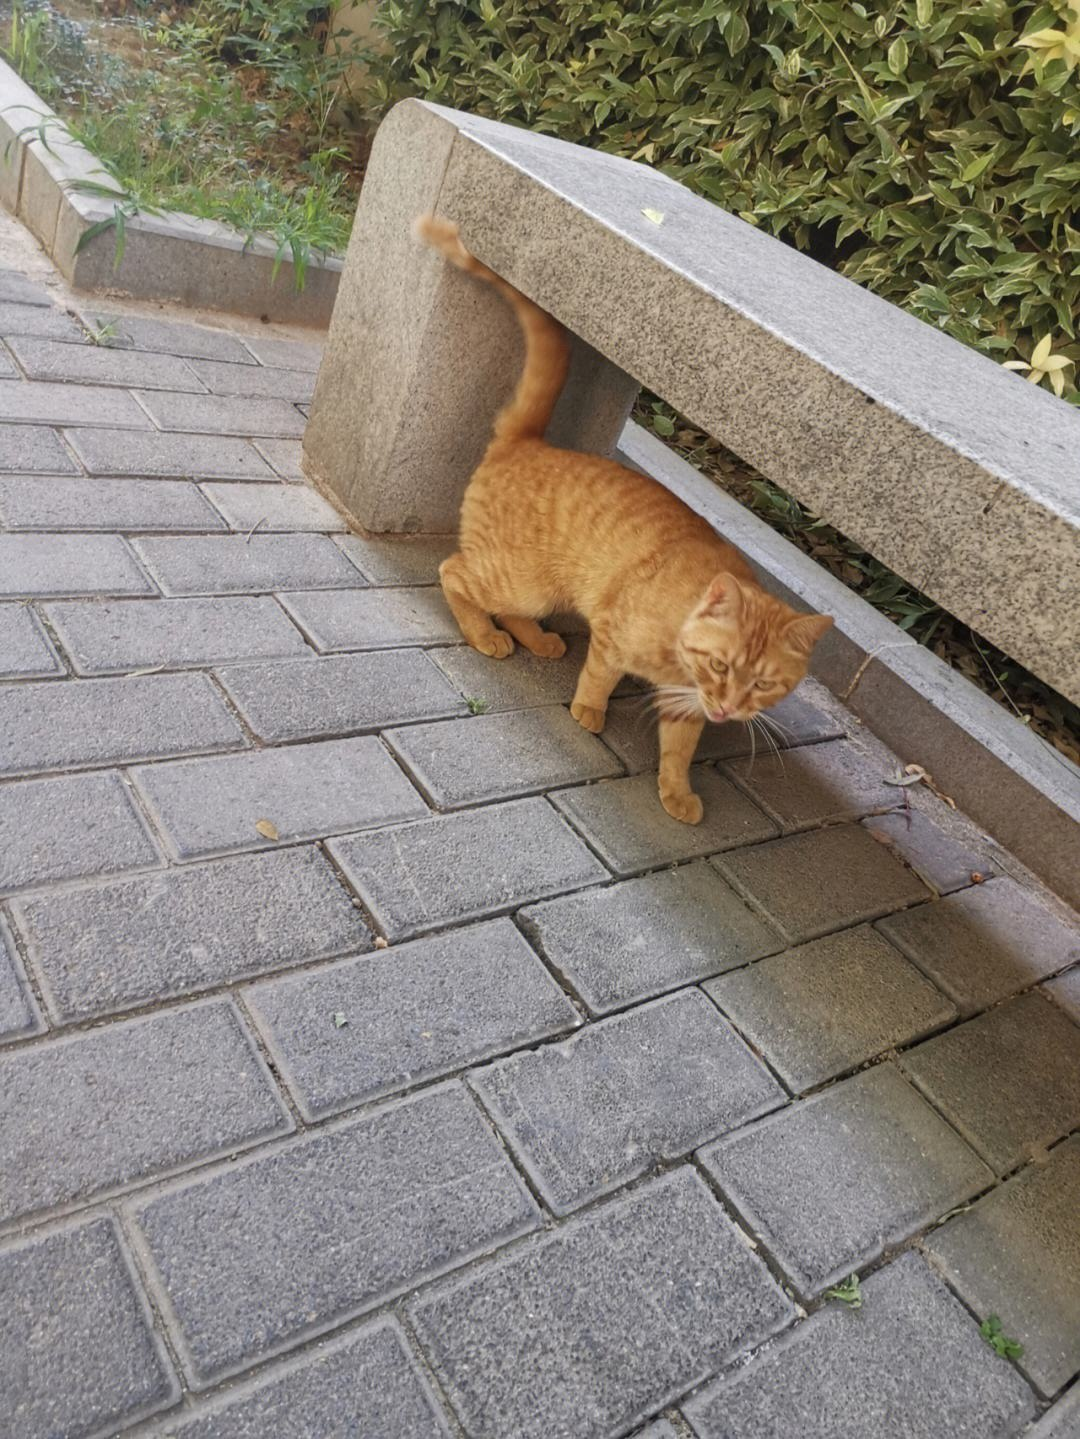cat: (408, 214, 835, 827)
